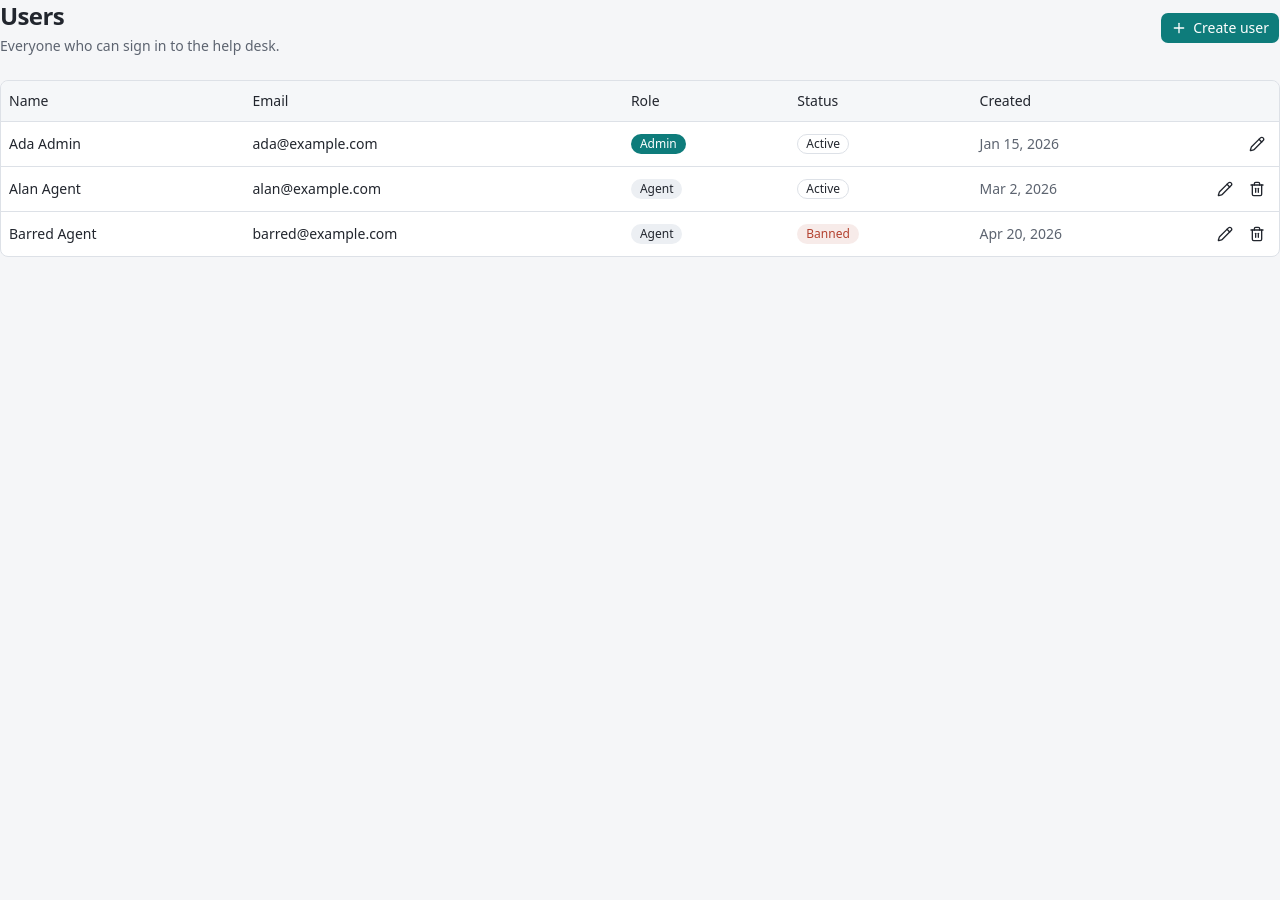
Test: UsersPage › delete user dialog › removes the row after confirming
Expected: the text "Alan Agent" is shown, x1=1 y1=166 x2=244 y2=211
Click the button named "Delete Alan Agent": (1257, 188) x1=1243 y1=174 x2=1271 y2=202
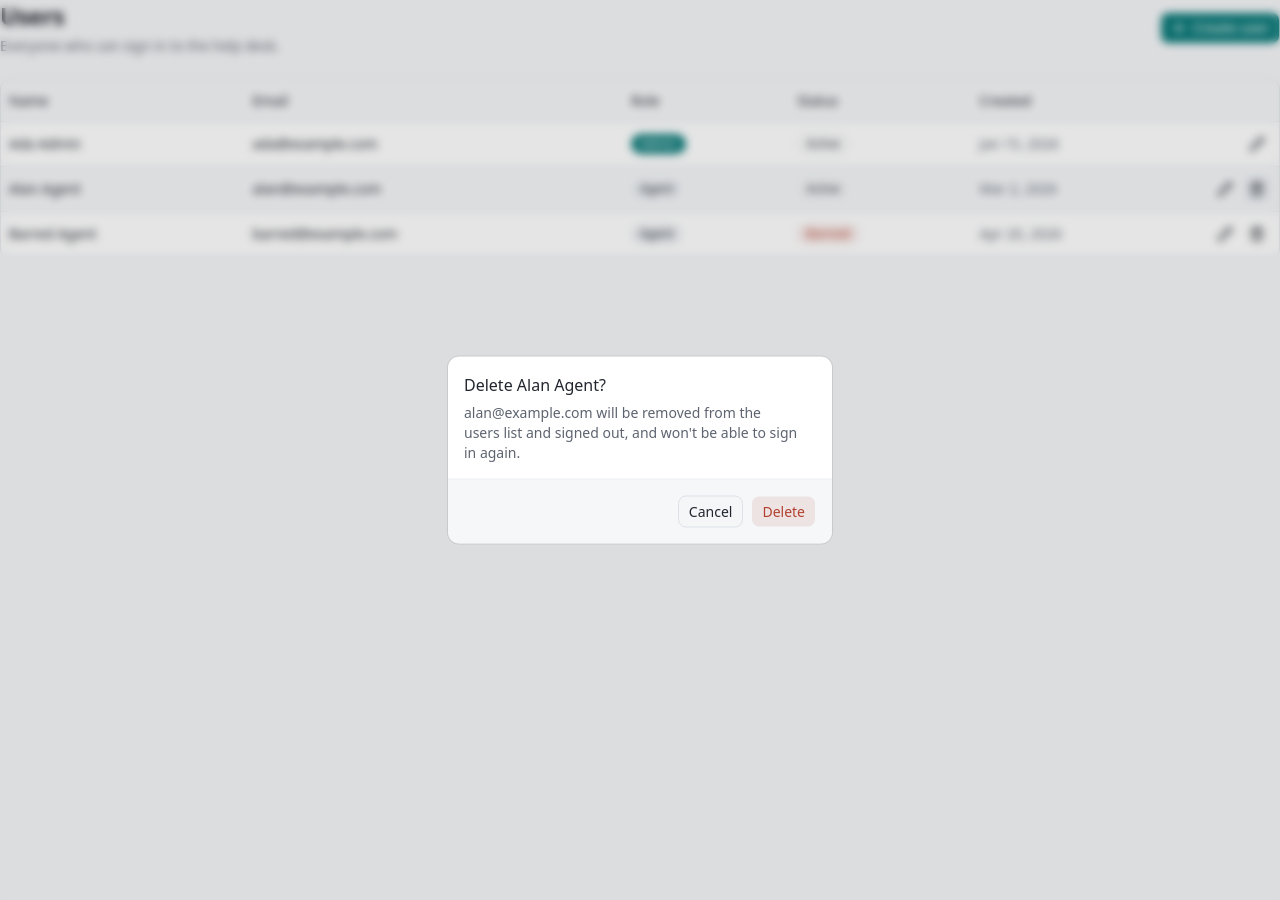
Click the button "Delete": (784, 512) x1=751 y1=496 x2=816 y2=528
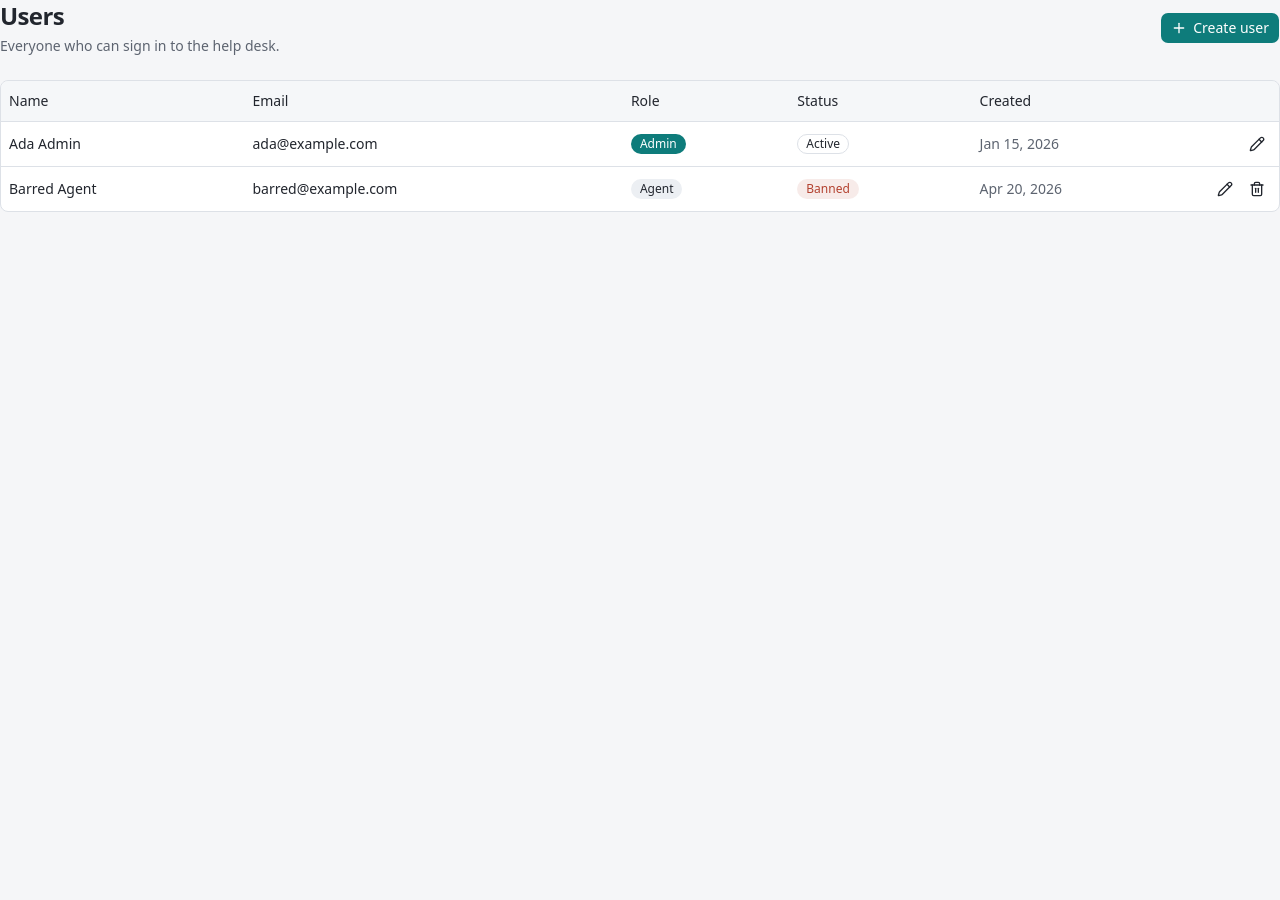
Expected: the text "Ada Admin" is shown, x1=1 y1=121 x2=244 y2=166
Expected: the text "Alan Agent" is gone
Expected: the dialog is gone
